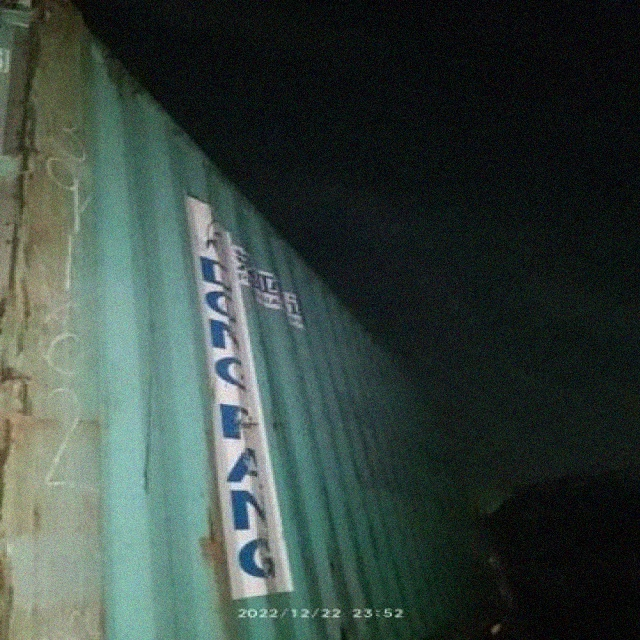Rusty: (8, 1, 84, 453)
